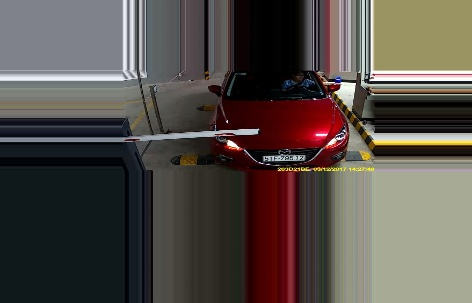plate: (263, 152, 305, 162)
